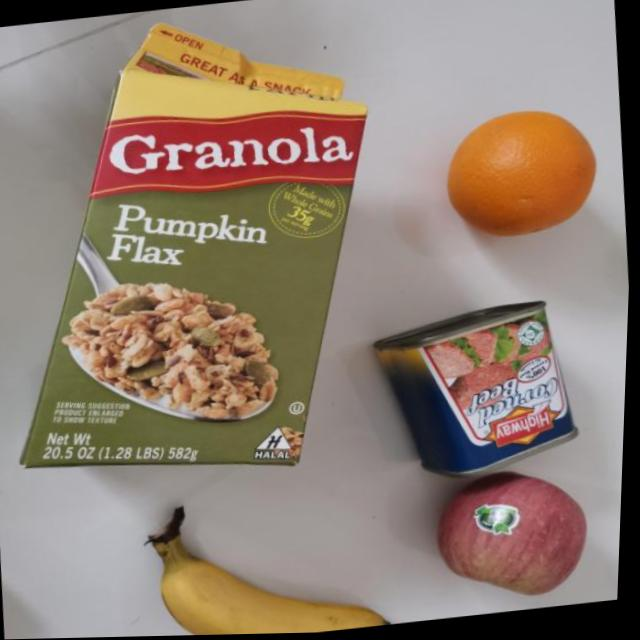Apple: (432, 463, 597, 613)
Banana: (141, 485, 401, 637)
Cerealbox: (0, 1, 401, 496)
Orange: (428, 101, 606, 252)
